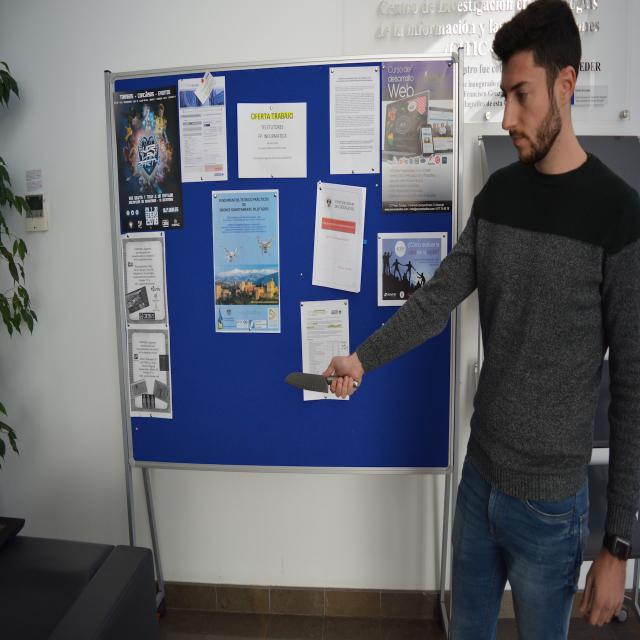knife: (286, 366, 332, 402)
